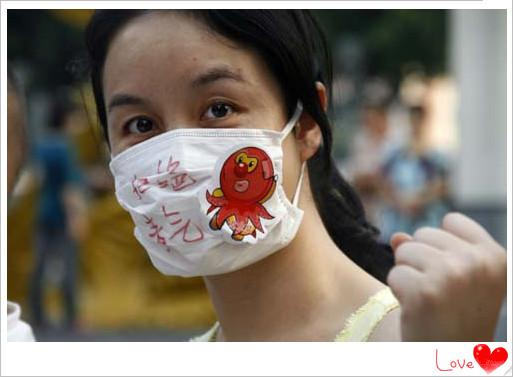OK: (105, 66, 303, 272)
